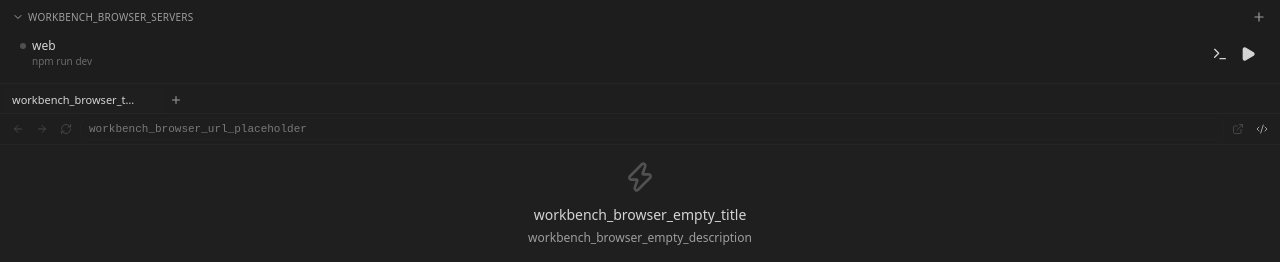
BrowserTab — servidores de dev (paridade com o antigo Preview) › clicar no cabeçalho 'Servidores' recolhe a lista; clicar de novo expande
Expected: the button titled "workbench_browser_start" is shown, [1236,42,1260,66]
Expected: the text "web" is shown, [32,38,56,54]
What coordinates should you click on to do the following:
click the button titled "workbench_browser_servers_collapse"
I would click on:
 (103, 17)
Its box is [12,10,194,24].
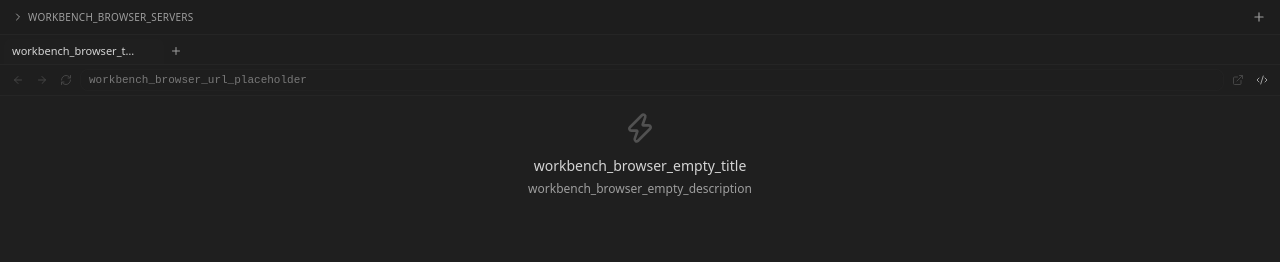
Result: the text "web" is gone
What coordinates should you click on to do the following:
click the button titled "workbench_browser_servers_expand"
I would click on:
 (103, 17)
Its box is [12,10,194,24].
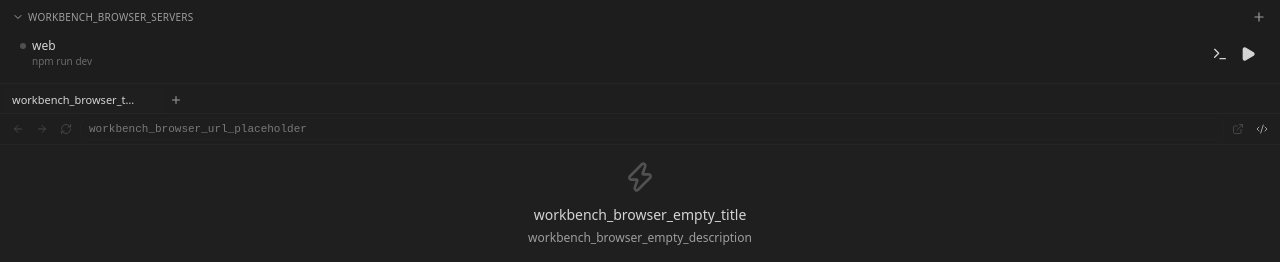
Result: the text "web" is shown at [32,38,56,54]
